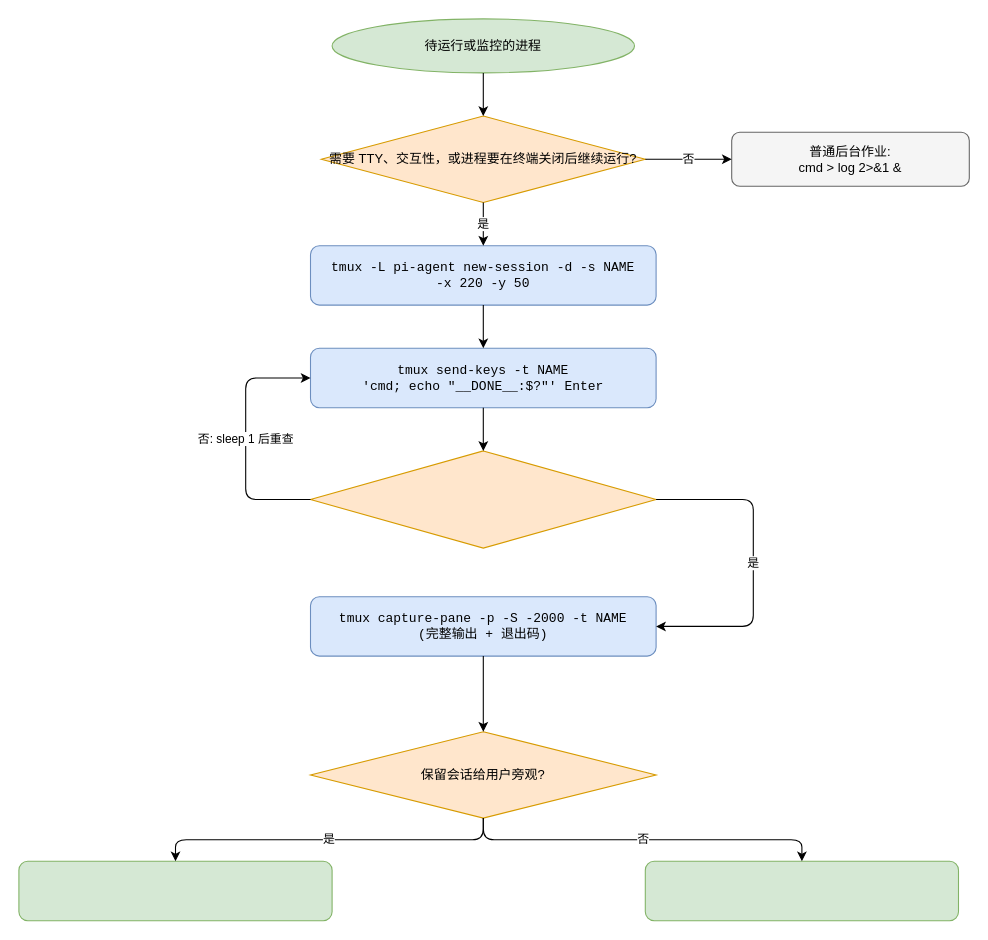
This 988x940 diagram has some shape labels left out. The centre of each missing label's shape, as x and y in pixels:
capture-pane -p -t NAME | grep '__DONE__:[0-9]' ?: pixel 482 499
tmux -L pi-agent kill-session -t NAME: pixel 801 890
保留会话并交给用户: tmux -L pi-agent attach -t NAME: pixel 175 890
